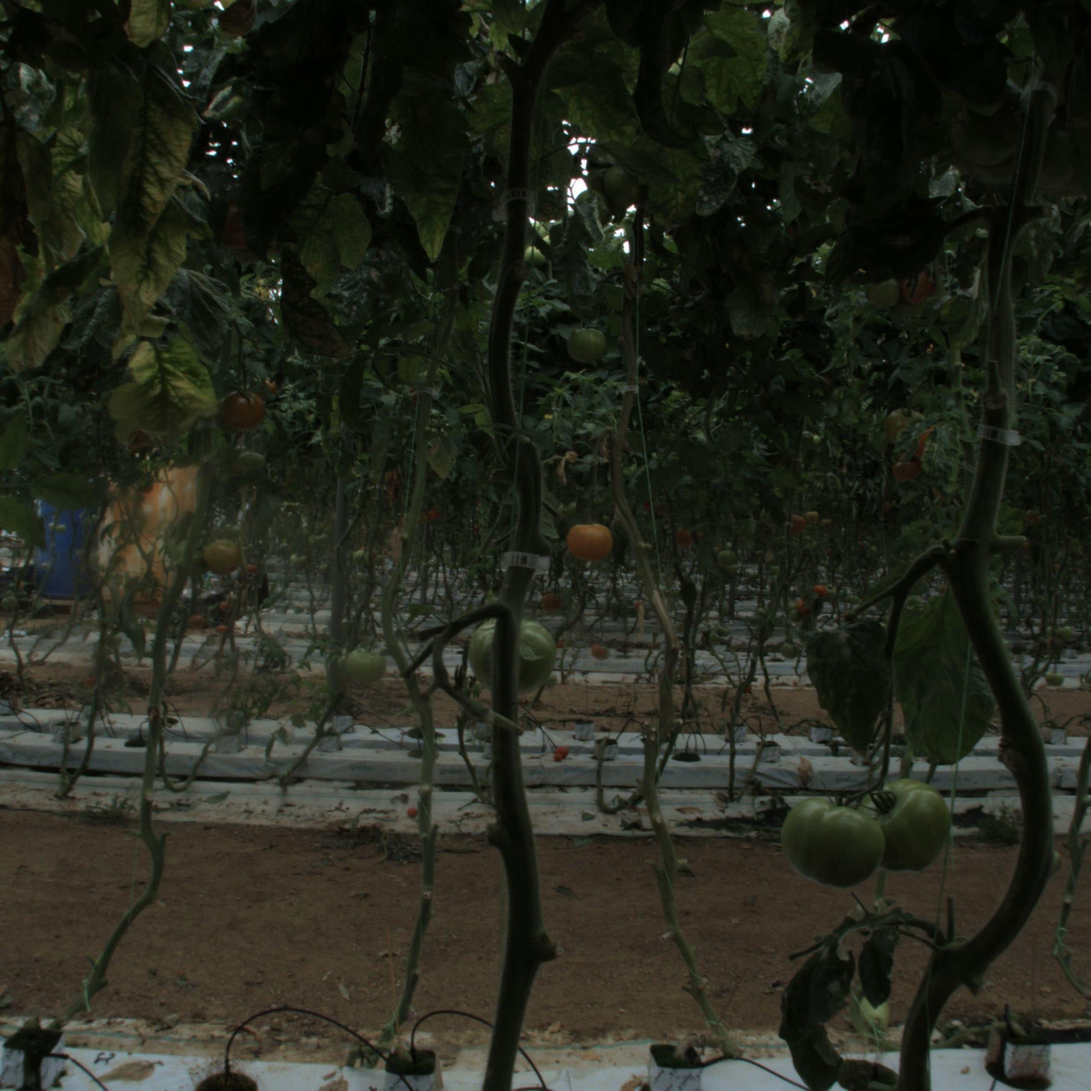fully-ripe: (570, 523, 614, 568)
semi-ripe: (218, 389, 263, 434)
unripe: (778, 782, 886, 890), (859, 775, 951, 867), (475, 614, 558, 697), (200, 534, 245, 579), (564, 325, 609, 369), (345, 644, 390, 688)
